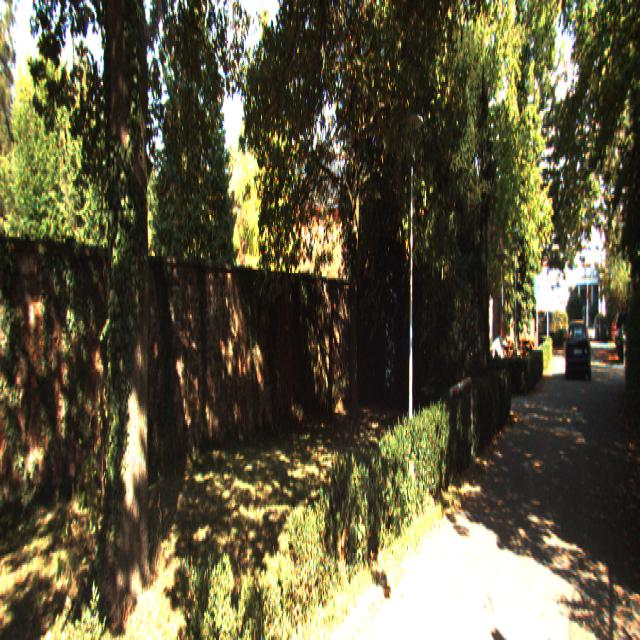Car: (565, 316, 591, 382)
